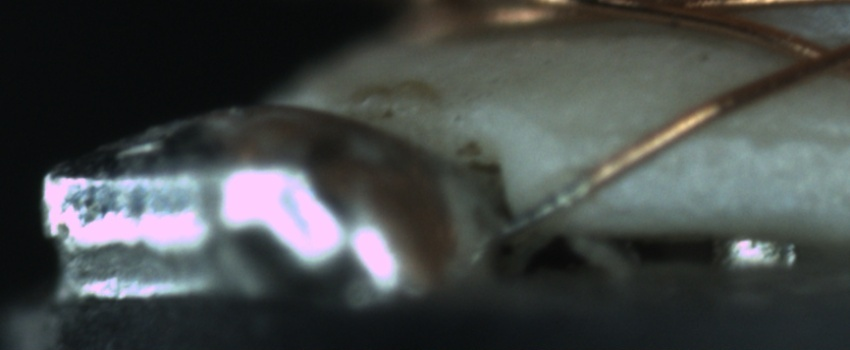CL: (769, 29, 846, 86)
DL: (624, 105, 850, 169)
TS: (505, 173, 593, 240)
